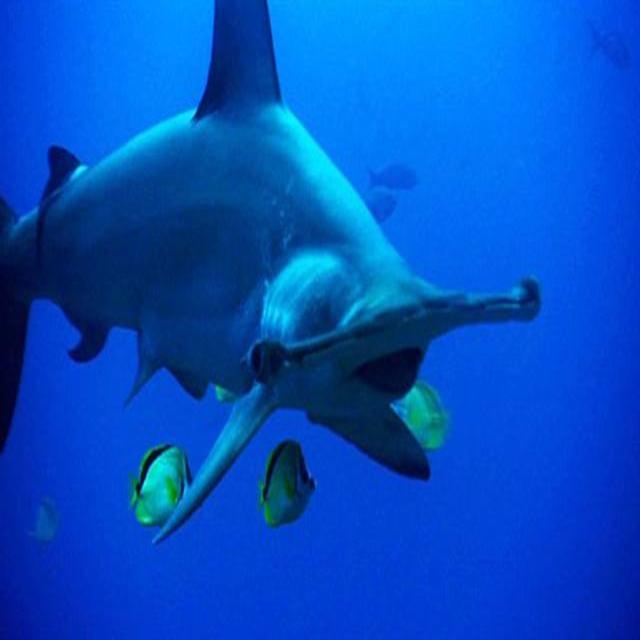hammerhead: (150, 140, 525, 480)
